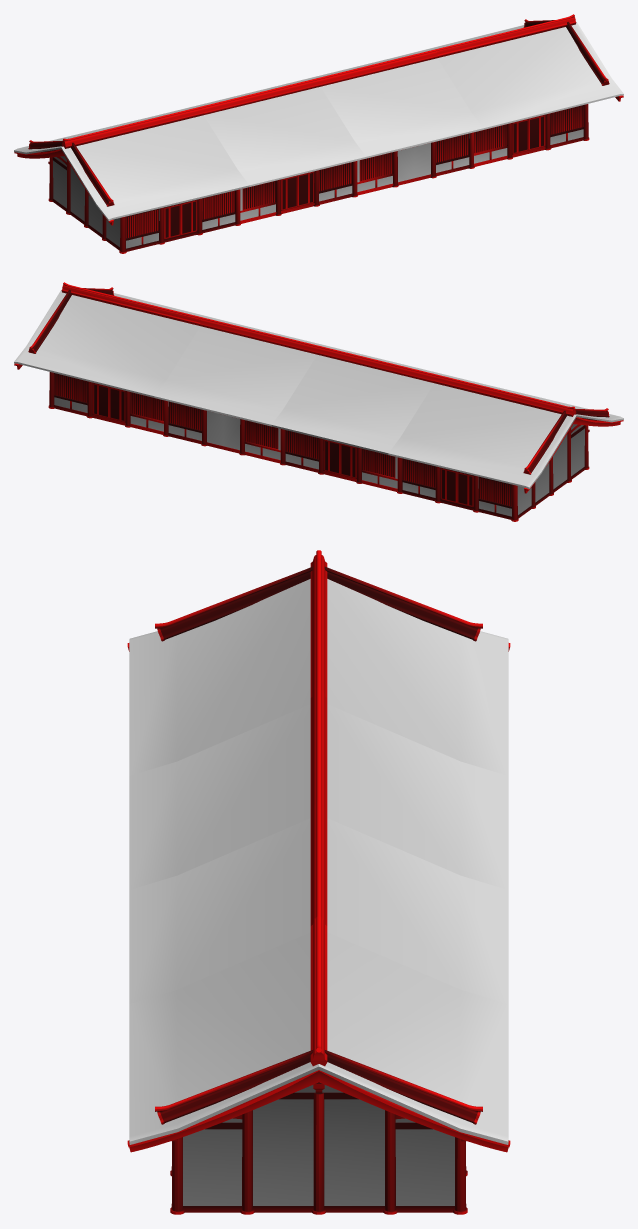
Rendered from AsianBuilding.fbx.
3 views of the same model, one above another, from view 1: azimuth 30°, elevation 25°; view 2: azimuth 150°, elevation 25°; view 3: azimuth 270°, elevation 25° (orthographic). The views are drawn at different scales.
Visible parts, largest first — view 1: Dojo2Left_MSH, Dojo2Right_MSH, Dojo2Middle1, Dojo2Middle2; view 2: Dojo2Left_MSH, Dojo2Right_MSH, Dojo2Middle1, Dojo2Middle2; view 3: Dojo2Right_MSH, Dojo2Left_MSH, Dojo2Middle1, Dojo2Middle2.
Part boxes in pixels (bbox=[...]): Dojo2Left_MSH: bbox=[14, 106, 249, 253]; Dojo2Right_MSH: bbox=[389, 14, 623, 166]; Dojo2Middle1: bbox=[155, 78, 366, 223]; Dojo2Middle2: bbox=[272, 49, 483, 195]; Dojo2Left_MSH: bbox=[388, 374, 623, 521]; Dojo2Right_MSH: bbox=[14, 282, 248, 434]; Dojo2Middle1: bbox=[271, 346, 482, 491]; Dojo2Middle2: bbox=[154, 317, 365, 463]; Dojo2Right_MSH: bbox=[127, 916, 510, 1214]; Dojo2Left_MSH: bbox=[127, 550, 510, 775]; Dojo2Middle1: bbox=[129, 688, 508, 889]; Dojo2Middle2: bbox=[129, 802, 508, 1003].
Size of the model in its own units: 3967 by 688 by 1275.
